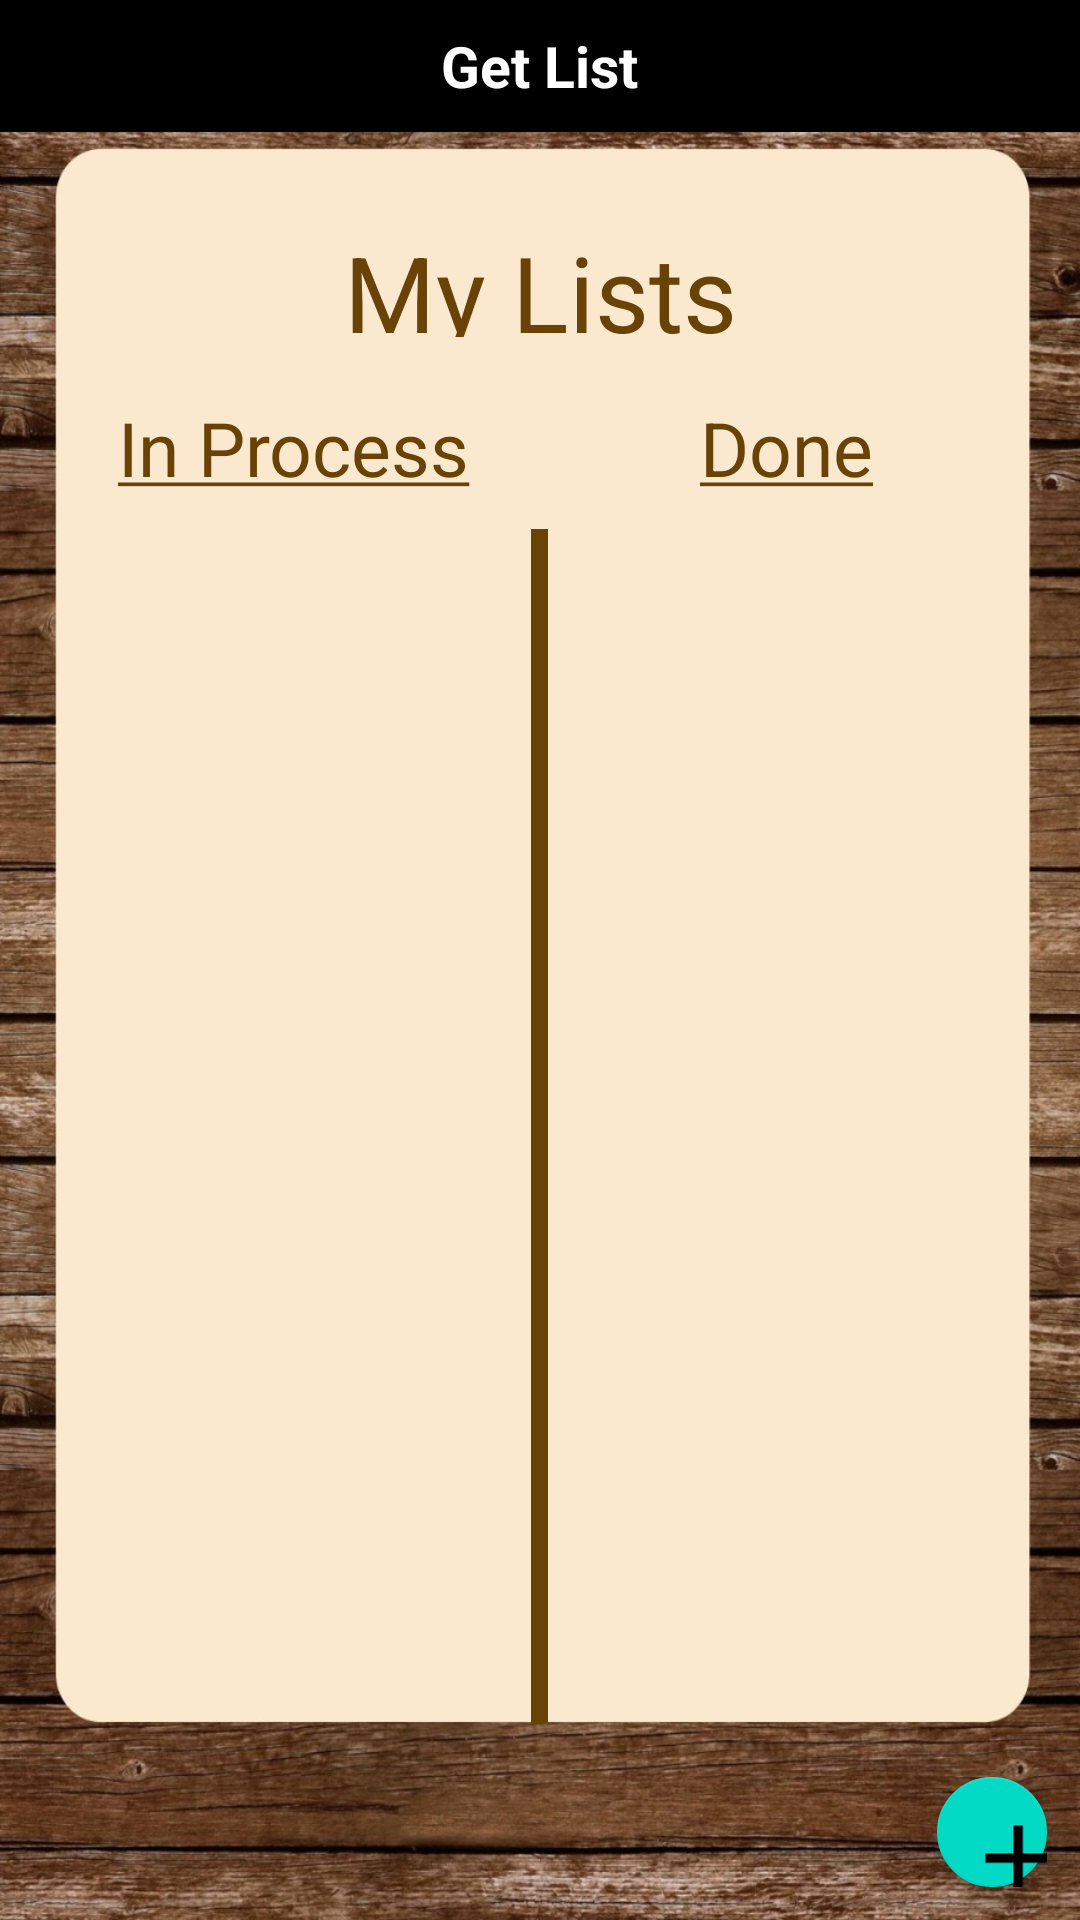

Named icons in this screenshot (1080px×1920px) and their centers, (x,y):
Add List: (992,1832)
